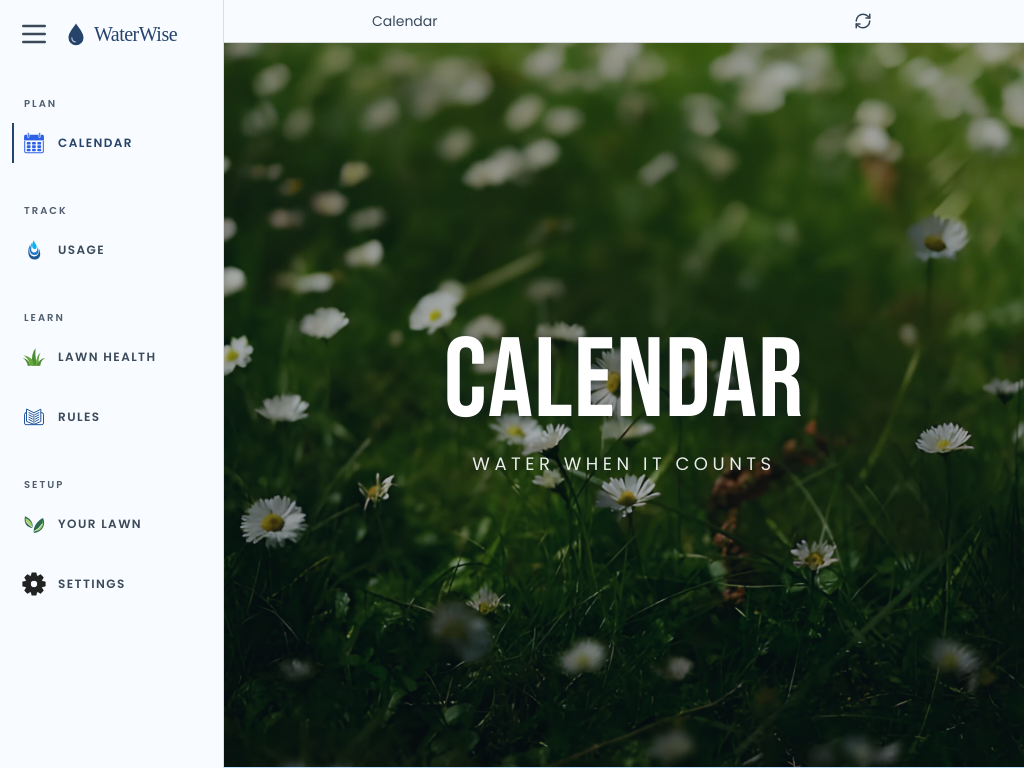
Test case: Municipal Rules tab › shows the user’s county
The width and height of the screenshot is (1024, 768).
Click the button "Rules". click: coordinates (112, 417)
box: [12,397,211,437]
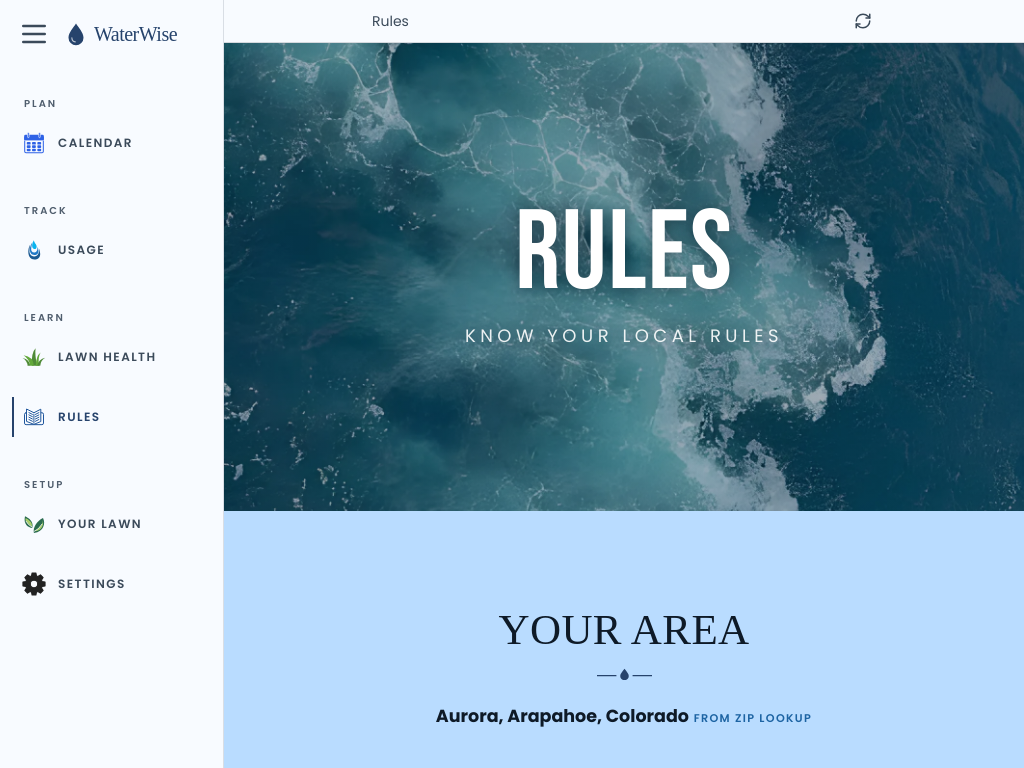
Expected: the heading "Rules" is shown, [515,204,733,306]
Expected: the text "Arapahoe" is shown, [436,704,689,728]
